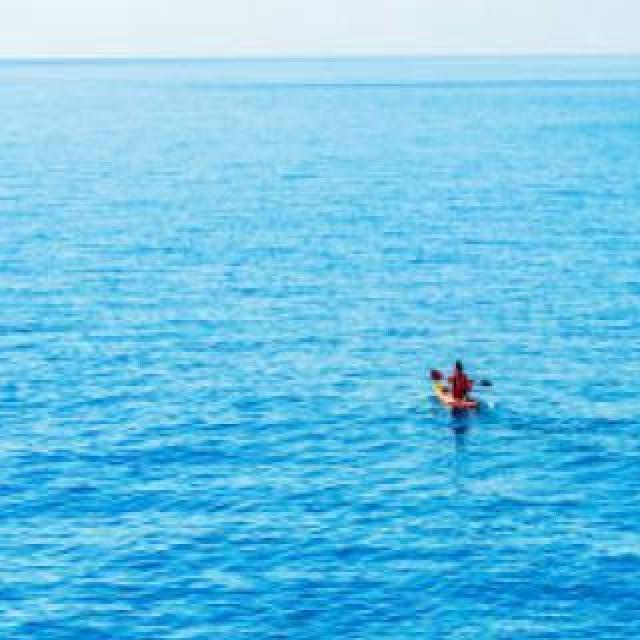kayak: (431, 361, 477, 408)
